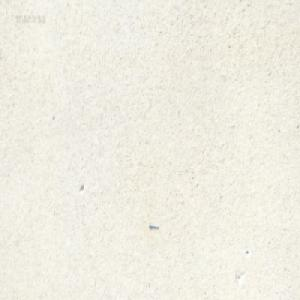Nail: (149, 223, 159, 231)
